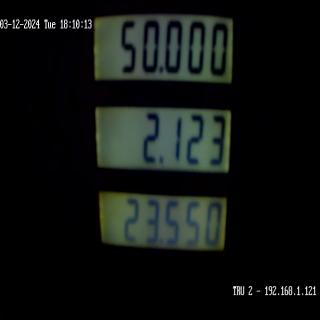screen: (90, 1, 242, 289)
